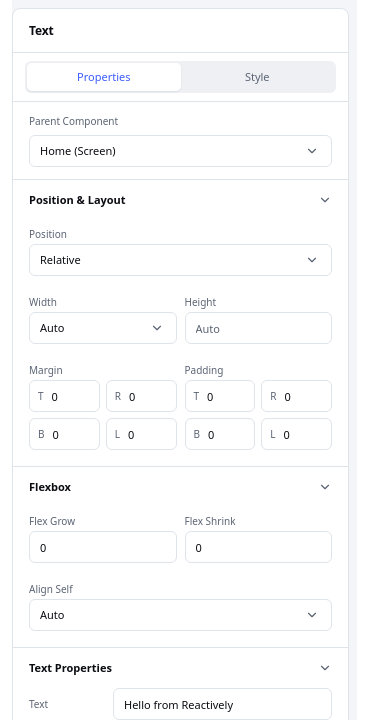
Test: editor inspector › switches tabs in editor state without modifying the project document
Press the mouse on the tab "Style" at (257, 77), box [180,63,334,91]
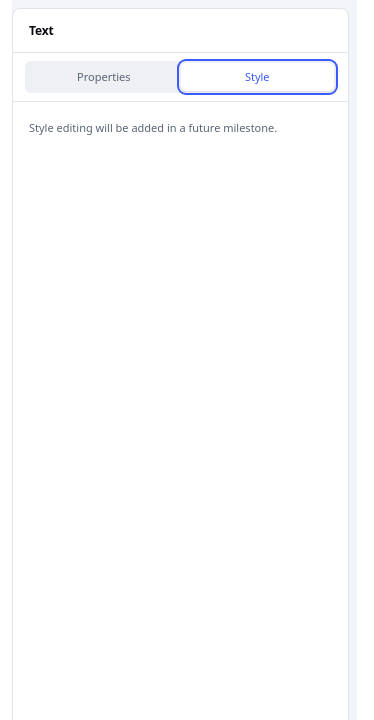
Expected: the text "Style editing will be added in a future milestone." is shown, [29,120,277,135]
